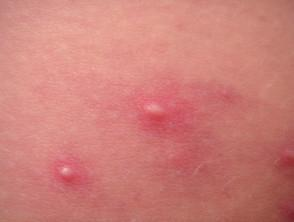purulent: (43, 150, 93, 199), (139, 94, 173, 130)
